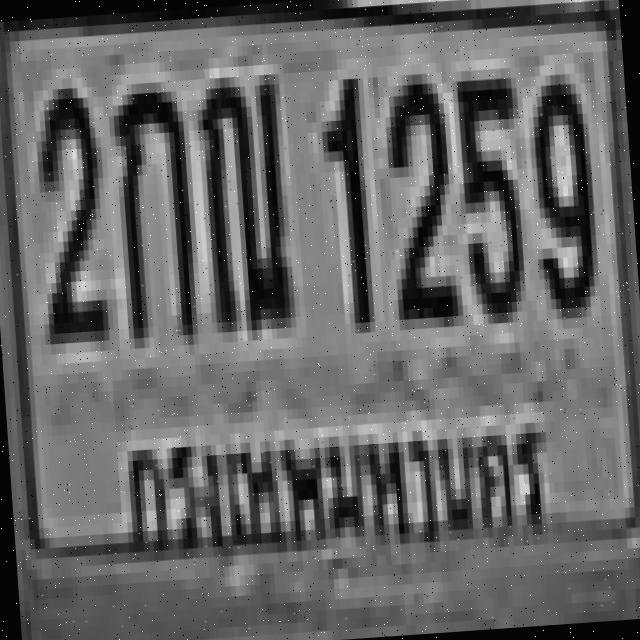1: (318, 74, 374, 330)
10GorGai: (106, 78, 198, 346)
2: (32, 88, 110, 346), (381, 69, 458, 326)
28NorNen: (194, 73, 298, 344)
5: (454, 67, 530, 316)
9: (528, 72, 600, 318)
Bangkok: (99, 382, 572, 600)
